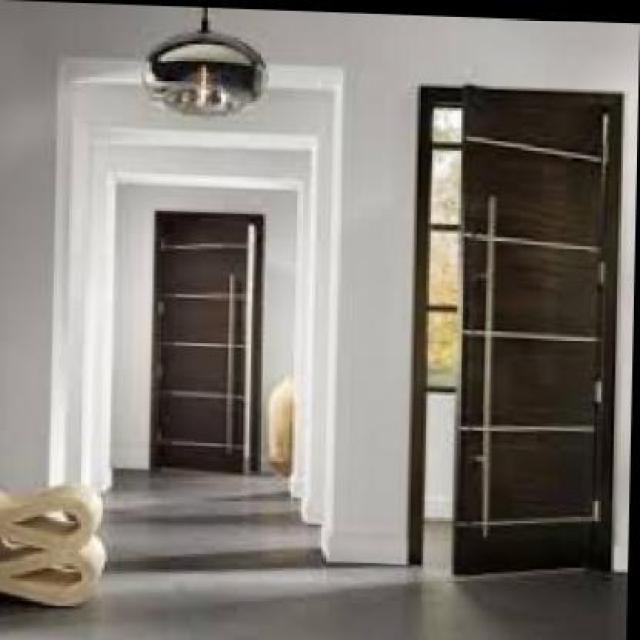door: (446, 83, 607, 576), (153, 210, 262, 472)
